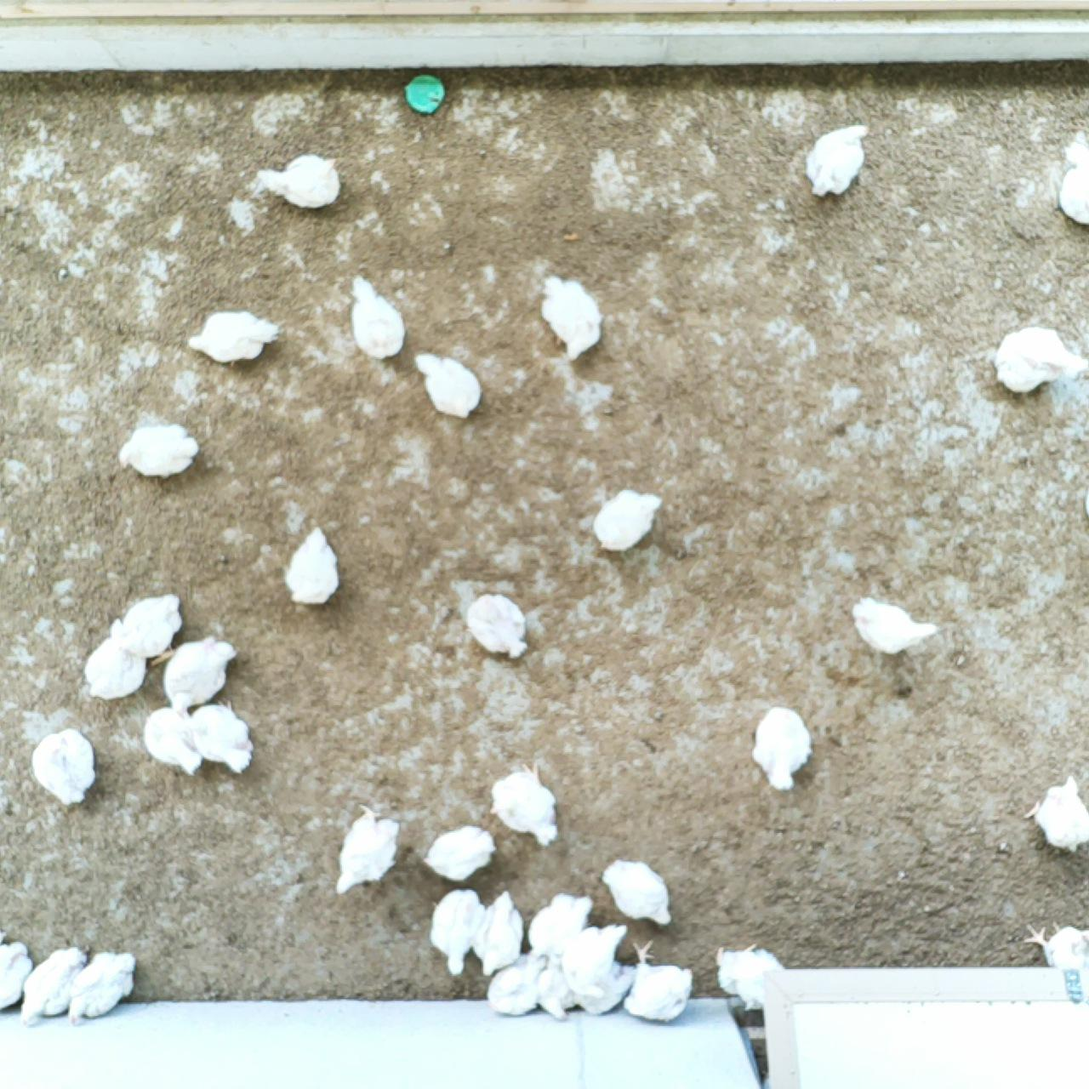chicken: (332, 801, 413, 906), (988, 322, 1089, 395), (618, 936, 697, 1028), (486, 757, 564, 850), (184, 301, 282, 375), (535, 269, 609, 365), (62, 948, 142, 1031), (107, 586, 186, 670), (16, 942, 93, 1028), (709, 934, 790, 1014), (28, 726, 104, 811), (164, 633, 240, 718), (408, 346, 488, 426), (748, 700, 816, 794), (557, 918, 633, 1002), (251, 150, 346, 217), (847, 593, 944, 658), (597, 852, 676, 931), (182, 698, 257, 780), (342, 268, 406, 364), (523, 889, 596, 973), (468, 888, 532, 983), (427, 884, 490, 980), (801, 120, 873, 204), (115, 415, 204, 480), (1022, 770, 1089, 853), (419, 821, 502, 888), (589, 485, 663, 558), (79, 633, 156, 702), (284, 524, 344, 611), (464, 591, 532, 667), (482, 949, 552, 1022), (140, 706, 208, 781), (1019, 910, 1089, 975), (532, 956, 585, 1022), (0, 934, 35, 1019), (1052, 162, 1089, 230)
